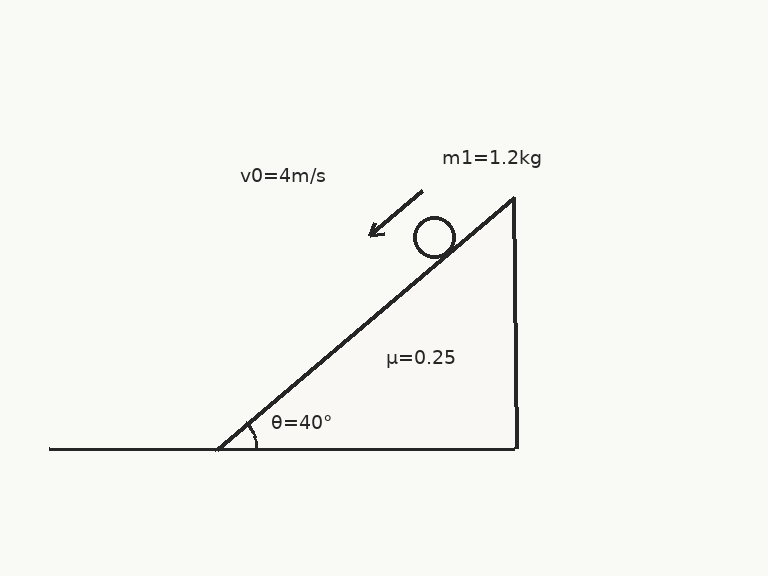ball: (411, 214, 457, 260)
ramp: (214, 195, 517, 450)
